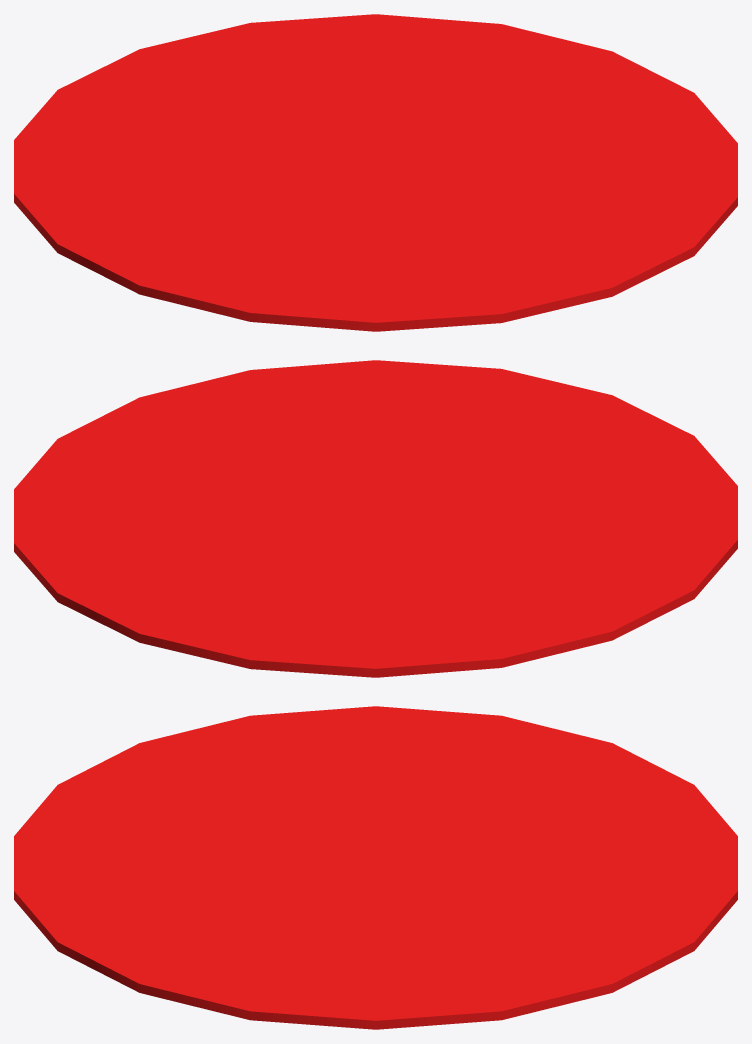
Rendered from Red Glass.fbx.
3 views of the same model, one above another, from view 1: azimuth 30°, elevation 25°; view 2: azimuth 150°, elevation 25°; view 3: azimuth 270°, elevation 25° (orthographic).
Parts seen in each view (by area): view 1: Cylinder001; view 2: Cylinder001; view 3: Cylinder001.
Part boxes in pixels (<box>): Cylinder001: <box>14,14,737,331</box>; Cylinder001: <box>14,360,737,677</box>; Cylinder001: <box>14,706,737,1029</box>.
Size of the model in its own units: 18.62 by 0.3601 by 18.33.
